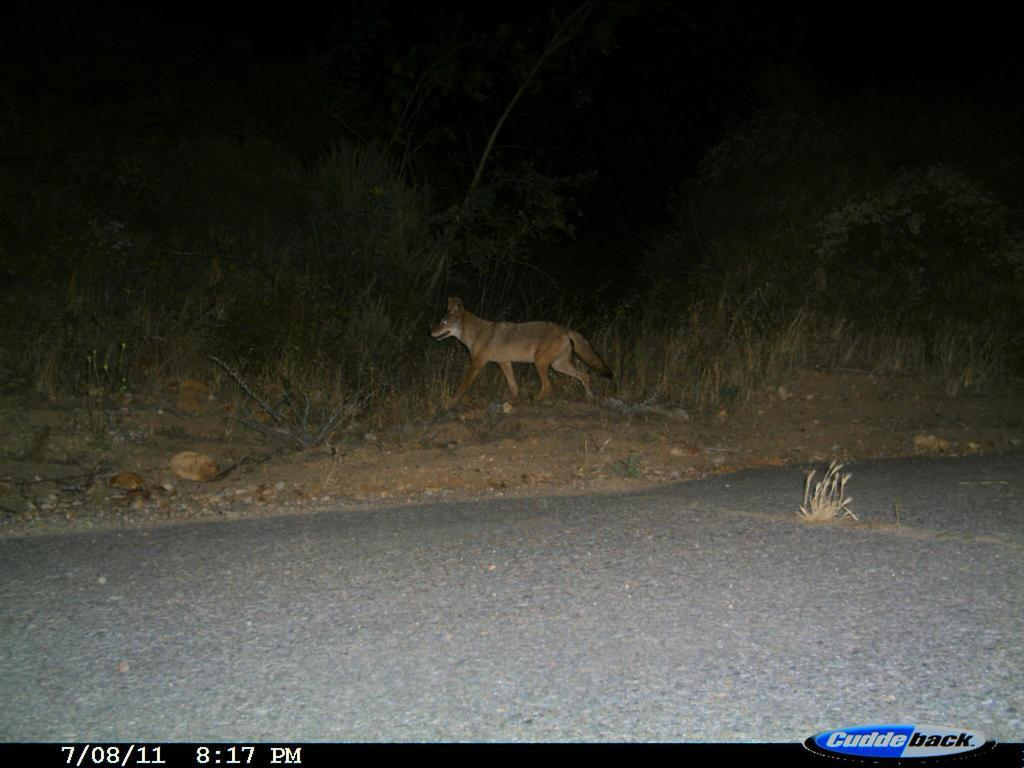coyote: (410, 287, 635, 431)
